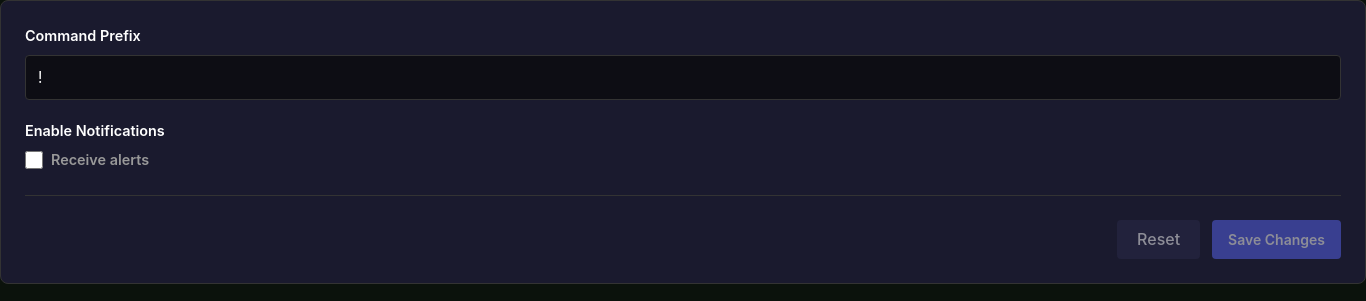
Test: Frontend Components (7.3) › SettingsForm › should enable save button after changes
This screenshot has width=1366, height=301.
expect the button "Save Changes" is disabled: met, box [1212, 220, 1341, 259]
In the field with placeholder "!": (683, 77) [25, 55, 1341, 100], type "?"
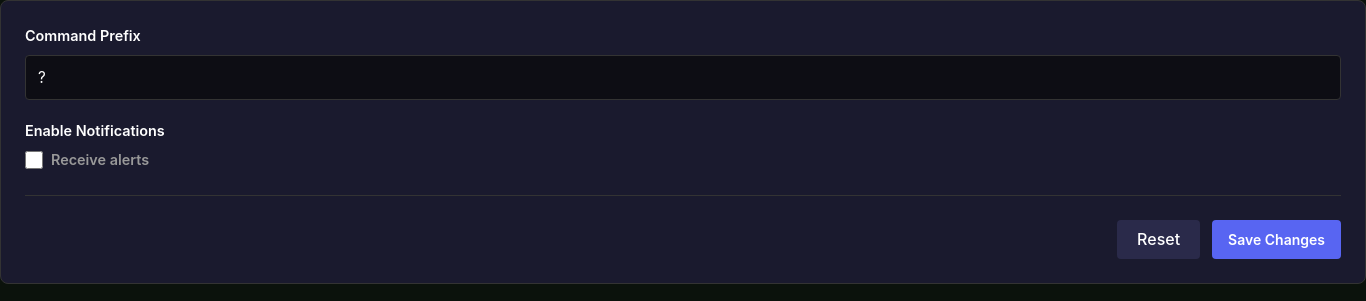
expect the button "Save Changes" is enabled: met, box [1212, 220, 1341, 259]
